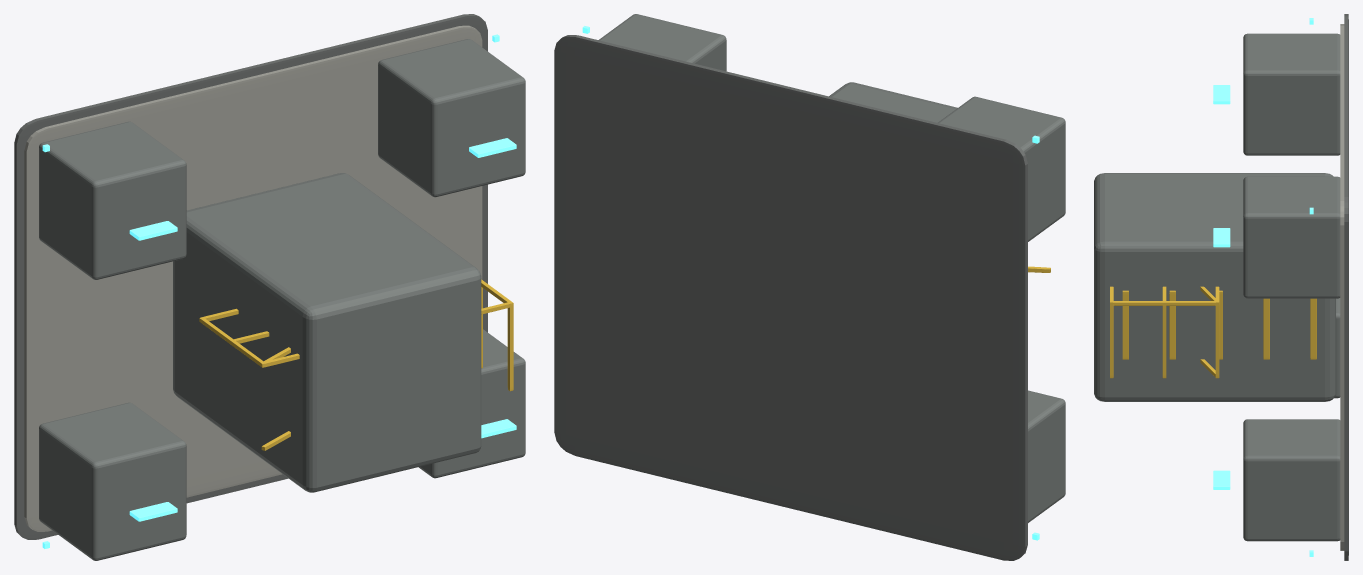
Rendered from b-45-superweapon-lab-lod2.glb.
The picture shows the model from 3 angles, left to right: view 1: azimuth 30°, elevation 25°; view 2: azimuth 150°, elevation 25°; view 3: azimuth 270°, elevation 25°; orthographic projection. The views are drawn at different scales.
Parts seen in each view (by area): view 1: primary_armored_shaft, foundation_inner_pad, strategic_bastion_7.2_5.7, strategic_bastion_-7.2_-5.7, strategic_bastion_-7.2_5.7, foundation, strategic_bastion_7.2_-5.7; view 2: foundation, strategic_bastion_-7.2_5.7, strategic_bastion_-7.2_-5.7, strategic_bastion_7.2_5.7, primary_armored_shaft; view 3: primary_armored_shaft, strategic_bastion_-7.2_5.7, strategic_bastion_7.2_-5.7, strategic_bastion_7.2_5.7, foundation, foundation_inner_pad, upper_crane_column_e_n, strategic_bastion_-7.2_-5.7, shaft_warning_strip_7.5, shaft_warning_strip_9.5, shaft_warning_strip_1.5, shaft_warning_strip_3.5 (+5 smaller).
Part boxes in pixels (x1,y1,x2,y2): primary_armored_shaft: (173,173,481,492); foundation_inner_pad: (24,25,482,531); strategic_bastion_7.2_5.7: (378,39,525,197); strategic_bastion_-7.2_-5.7: (39,402,186,560); strategic_bastion_-7.2_5.7: (39,121,186,279); foundation: (14,14,487,539); strategic_bastion_7.2_-5.7: (418,329,525,478); foundation: (554,35,1027,560); strategic_bastion_-7.2_5.7: (938,96,1065,241); strategic_bastion_-7.2_-5.7: (1028,390,1065,522); strategic_bastion_7.2_5.7: (598,14,726,71); primary_armored_shaft: (829,82,957,122); primary_armored_shaft: (1094,173,1335,401); strategic_bastion_-7.2_5.7: (1243,33,1340,155); strategic_bastion_7.2_-5.7: (1243,419,1340,541); strategic_bastion_7.2_5.7: (1243,176,1340,298); foundation: (1344,14,1348,560); foundation_inner_pad: (1340,24,1344,550); upper_crane_column_e_n: (1113,301,1215,305); strategic_bastion_-7.2_-5.7: (1334,298,1340,398); shaft_warning_strip_7.5: (1169,290,1175,359); shaft_warning_strip_9.5: (1122,290,1128,359); shaft_warning_strip_1.5: (1310,298,1316,359); shaft_warning_strip_3.5: (1263,298,1269,359).
Size of what is drawn, in the model's own units: 20 by 17 by 10.85.
